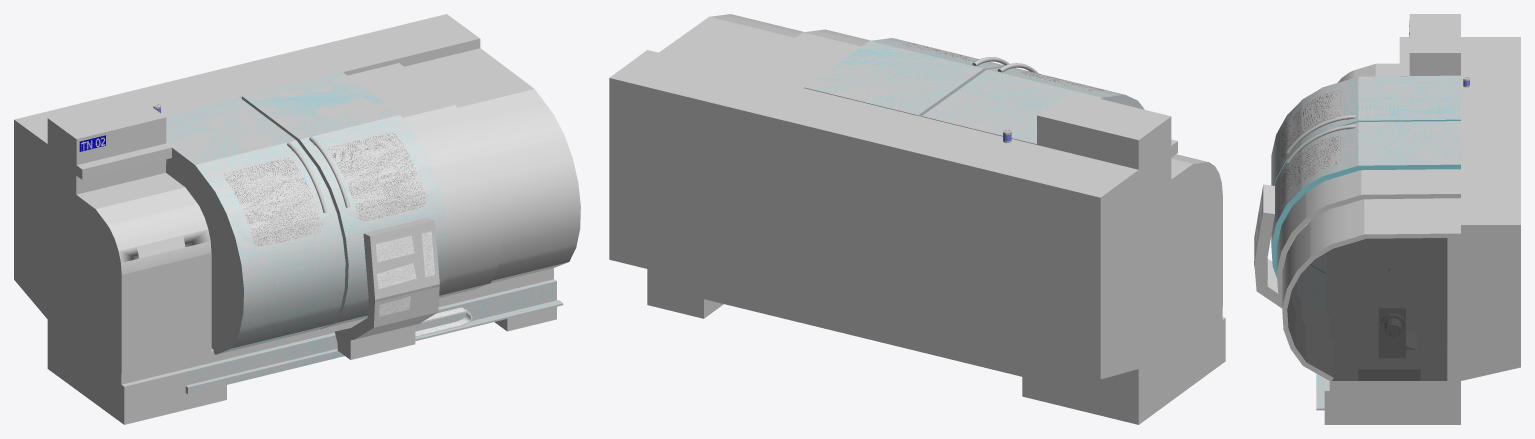
The picture shows the model from 3 angles, left to right: view 1: azimuth 30°, elevation 25°; view 2: azimuth 150°, elevation 25°; view 3: azimuth 270°, elevation 25°; orthographic projection. The views are drawn at different scales.
Parts seen in each view (by area): view 1: group_5, group_8, group_3_001, group_1_002, group_11_001, group_2_001, group_8_001, group_9, group_3_005, group_13, group_9_001, group_10 (+1 smaller); view 2: group_8, group_5, group_11_001, group_3_001, group_1_002, group_2_001; view 3: group_8, group_1_001, group_1_002, group_11_001, group_3_001, group_2_001, group_0_002, group_5, group_1, group_14, group_9, group_13 (+8 smaller).
Part boxes in pixels (x1=…): group_5: x1=47, y1=96, x2=240, y2=373; group_8: x1=14, y1=14, x2=556, y2=424; group_3_001: x1=164, y1=97, x2=345, y2=354; group_1_002: x1=404, y1=48, x2=580, y2=283; group_11_001: x1=242, y1=71, x2=448, y2=329; group_2_001: x1=348, y1=63, x2=502, y2=297; group_8_001: x1=183, y1=279, x2=563, y2=394; group_9: x1=335, y1=217, x2=439, y2=359; group_3_005: x1=223, y1=158, x2=322, y2=247; group_13: x1=327, y1=132, x2=426, y2=221; group_9_001: x1=376, y1=235, x2=414, y2=262; group_10: x1=415, y1=307, x2=472, y2=337; group_8: x1=609, y1=50, x2=1225, y2=424; group_5: x1=1037, y1=91, x2=1222, y2=368; group_11_001: x1=804, y1=38, x2=1004, y2=116; group_3_001: x1=921, y1=68, x2=1144, y2=144; group_1_002: x1=659, y1=14, x2=804, y2=73; group_2_001: x1=745, y1=29, x2=870, y2=87; group_8: x1=1324, y1=37, x2=1520, y2=424; group_1_001: x1=1287, y1=238, x2=1447, y2=380; group_1_002: x1=1282, y1=198, x2=1460, y2=377; group_11_001: x1=1271, y1=121, x2=1460, y2=313; group_3_001: x1=1271, y1=75, x2=1460, y2=271; group_2_001: x1=1276, y1=169, x2=1460, y2=338; group_0_002: x1=1358, y1=238, x2=1420, y2=380; group_5: x1=1337, y1=14, x2=1460, y2=82; group_1: x1=1282, y1=233, x2=1460, y2=380; group_14: x1=1358, y1=270, x2=1420, y2=357; group_9: x1=1254, y1=184, x2=1282, y2=308; group_13: x1=1281, y1=135, x2=1341, y2=205.
Size of the model in its own units: 2.62 by 1.57 by 1.44.
